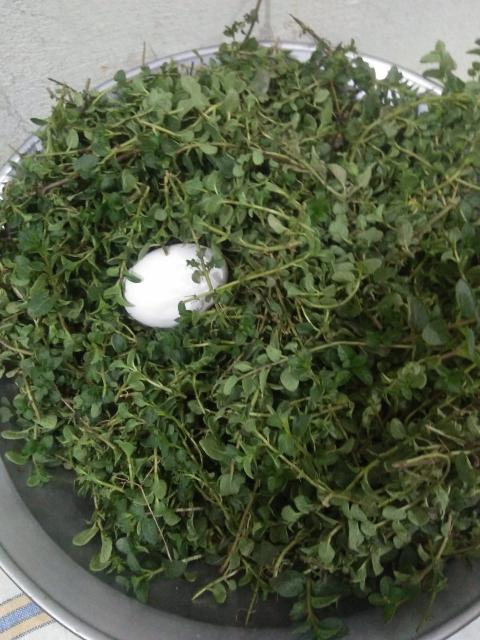Sano: (122, 245, 226, 325)
